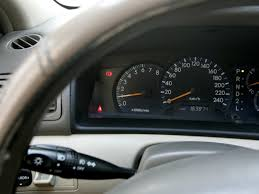Digital_Meter: (187, 103, 211, 111)
